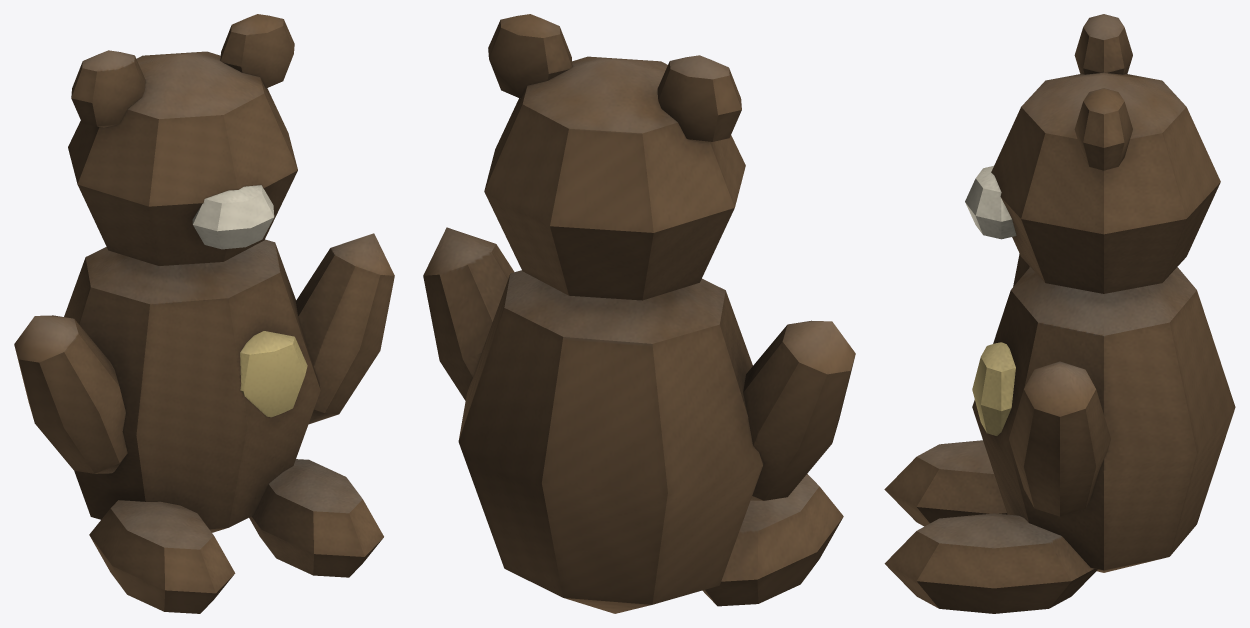
The model's file is H_Teddy.fbx.
3 renders of one model, left to right at view 1: azimuth 30°, elevation 25°; view 2: azimuth 150°, elevation 25°; view 3: azimuth 270°, elevation 25°, orthographic. The views are drawn at different scales.
Parts seen in each view (by area): view 1: H_Teddy; view 2: H_Teddy; view 3: H_Teddy.
Boxes of the visible parts, bbox=[...] form: H_Teddy: bbox=[14, 14, 394, 613]; H_Teddy: bbox=[423, 14, 855, 613]; H_Teddy: bbox=[884, 14, 1235, 613].
Bounding box in the file's own units: 120 × 157 × 96.
1 material, 1 textured.
